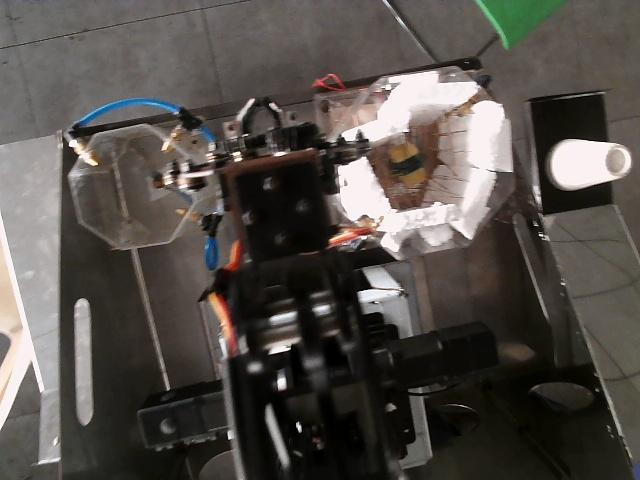cup: (547, 139, 632, 190)
